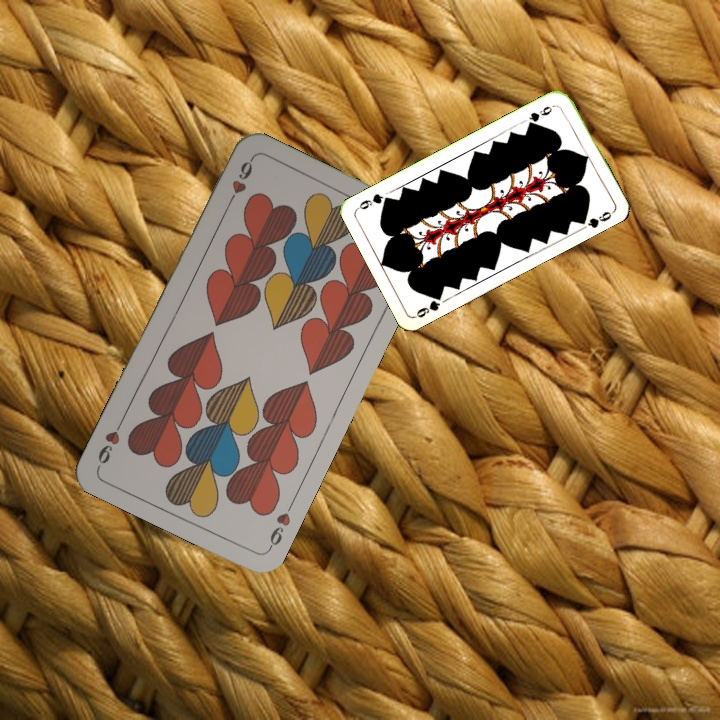G9: (411, 289, 445, 320), (524, 100, 559, 129)
H9: (222, 155, 256, 210), (264, 497, 297, 552)
